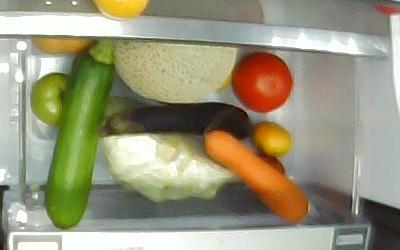cabbage: (102, 135, 243, 203)
carrot: (204, 130, 309, 221)
eggplant: (97, 102, 255, 140)
melon: (114, 39, 238, 103)
pear: (31, 36, 92, 53)
tangerine: (252, 122, 293, 158)
tomato: (232, 53, 294, 113), (31, 72, 73, 125)
zucchini: (44, 38, 115, 227)
